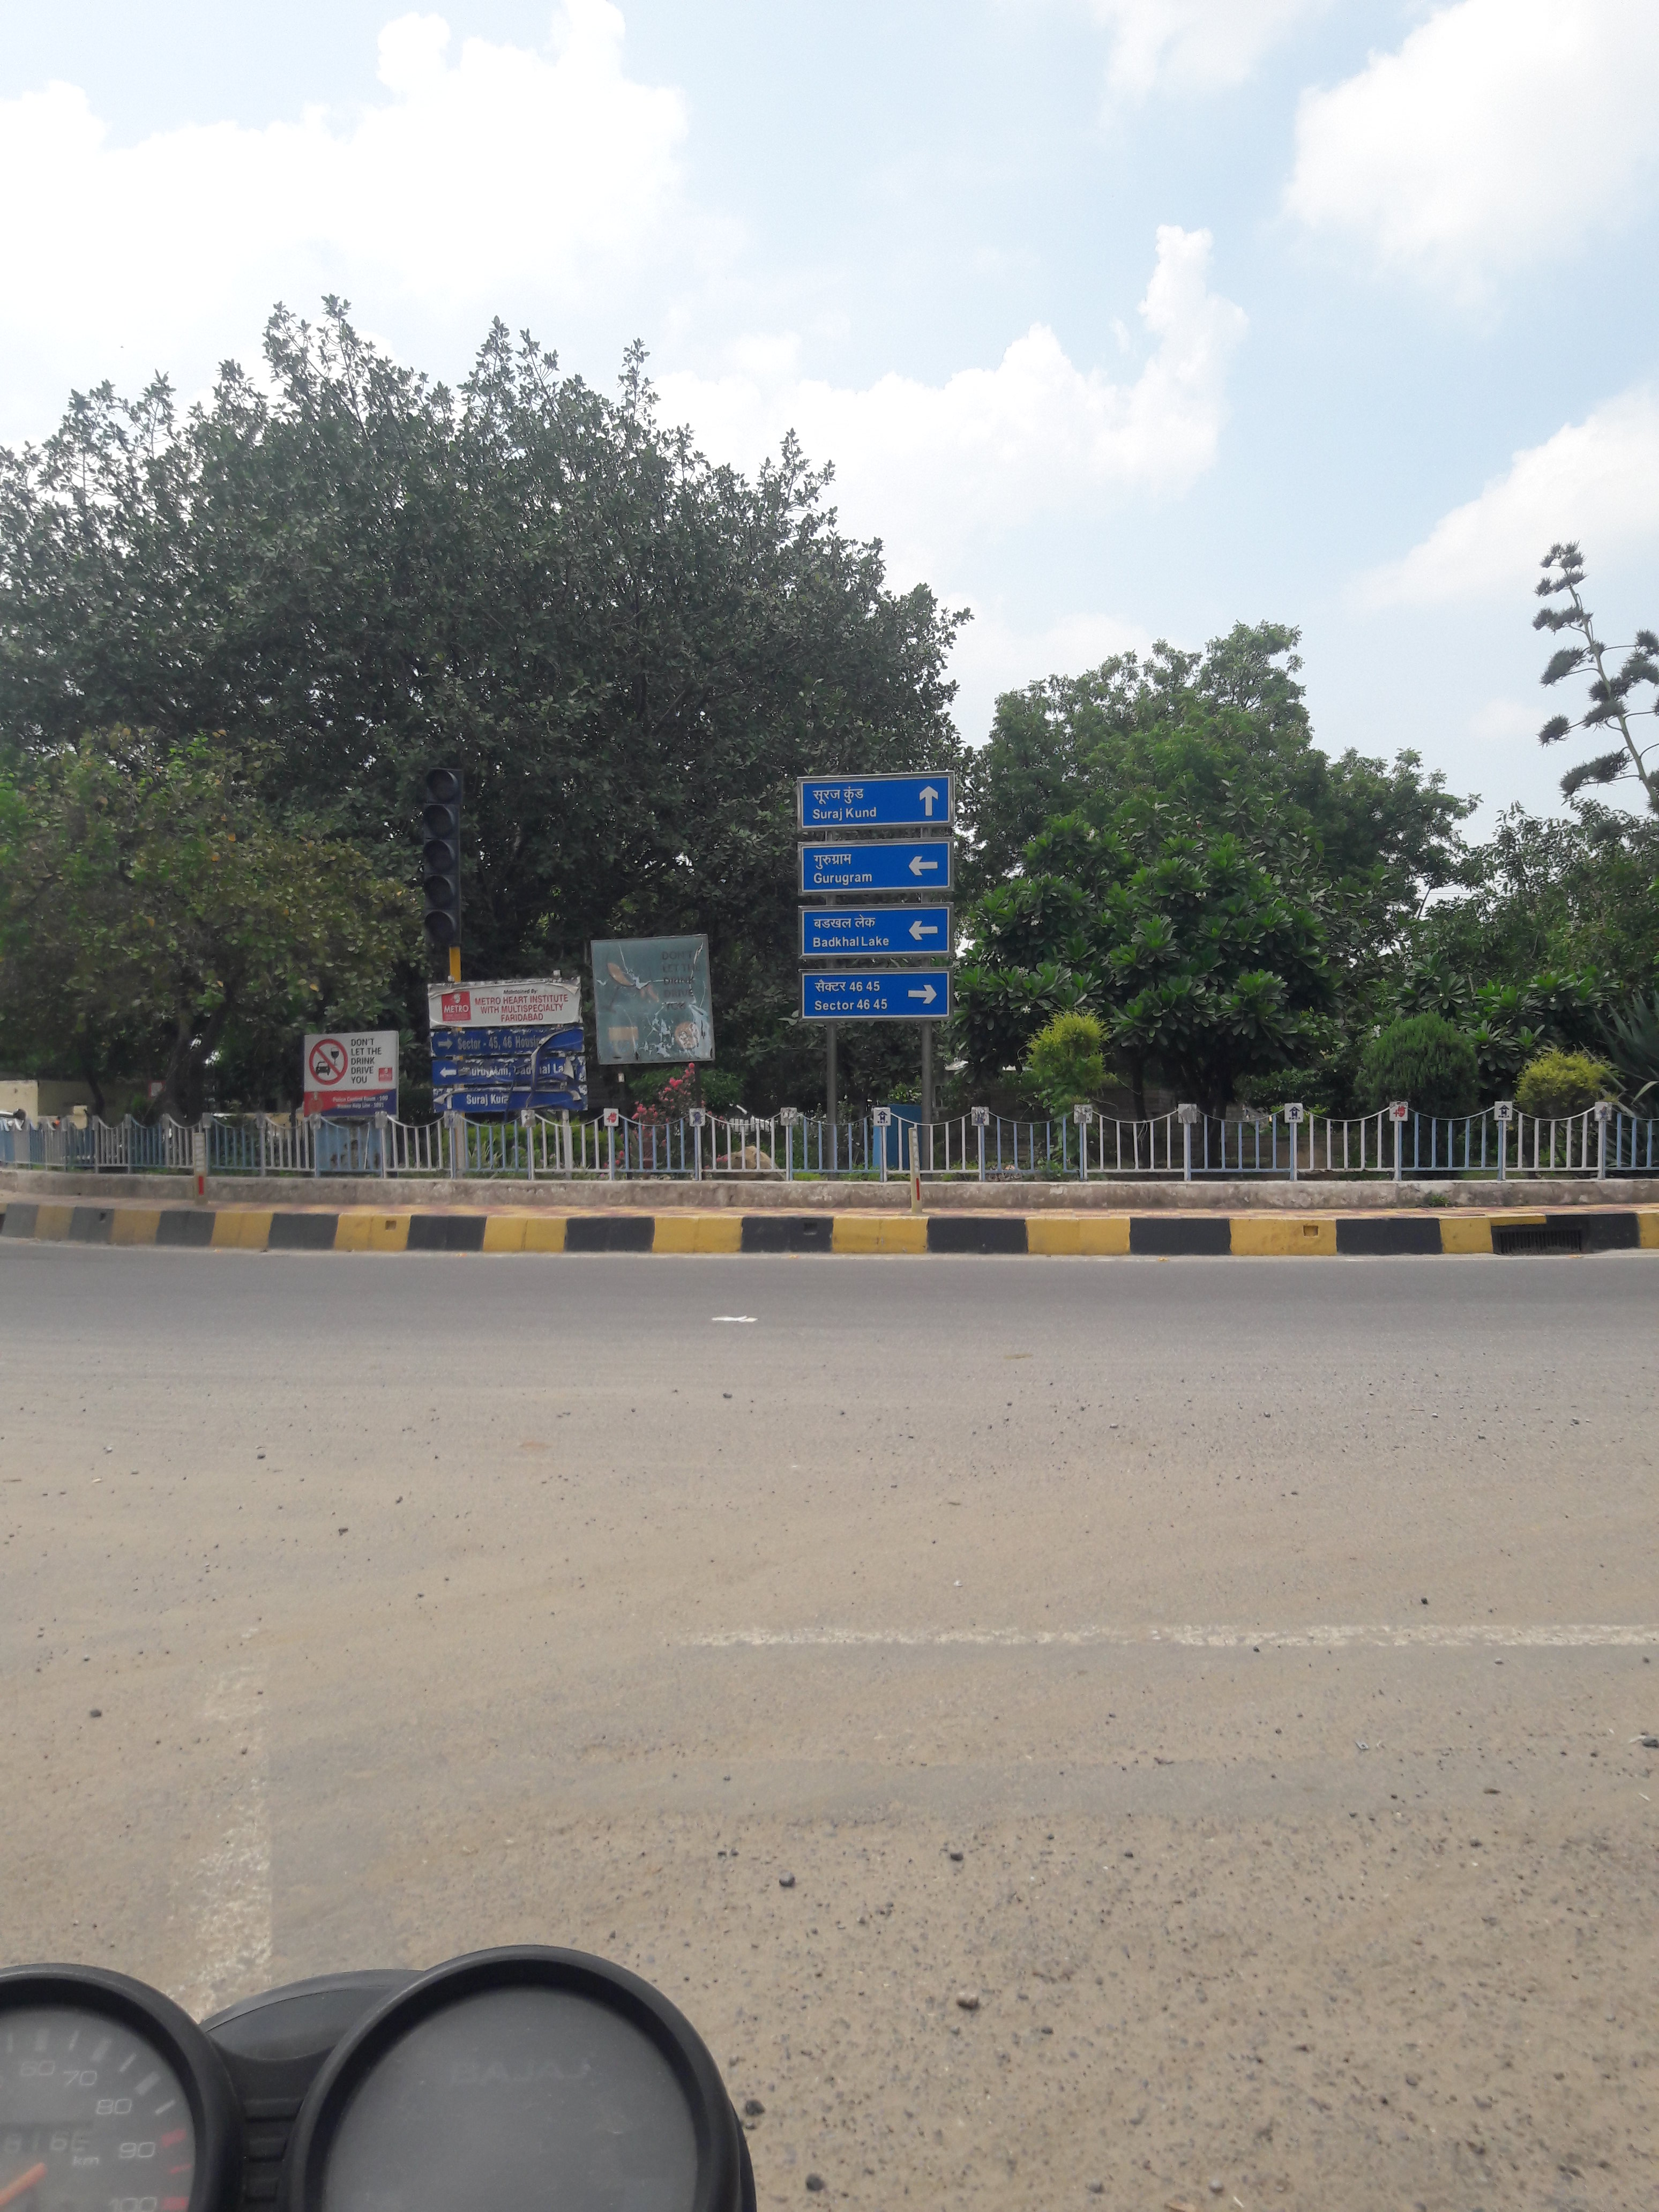traffic_sign: (301, 1035, 403, 1122), (422, 766, 467, 953)
